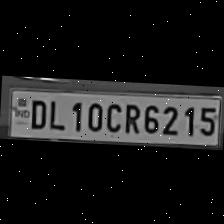0: (83, 97, 105, 130)
1: (64, 96, 84, 130), (179, 102, 197, 134)
2: (158, 102, 180, 134)
5: (195, 101, 217, 135)
6: (138, 100, 160, 132)
C: (102, 98, 122, 132)
D: (25, 94, 47, 128)
L: (44, 94, 66, 130)
R: (120, 100, 142, 132)
